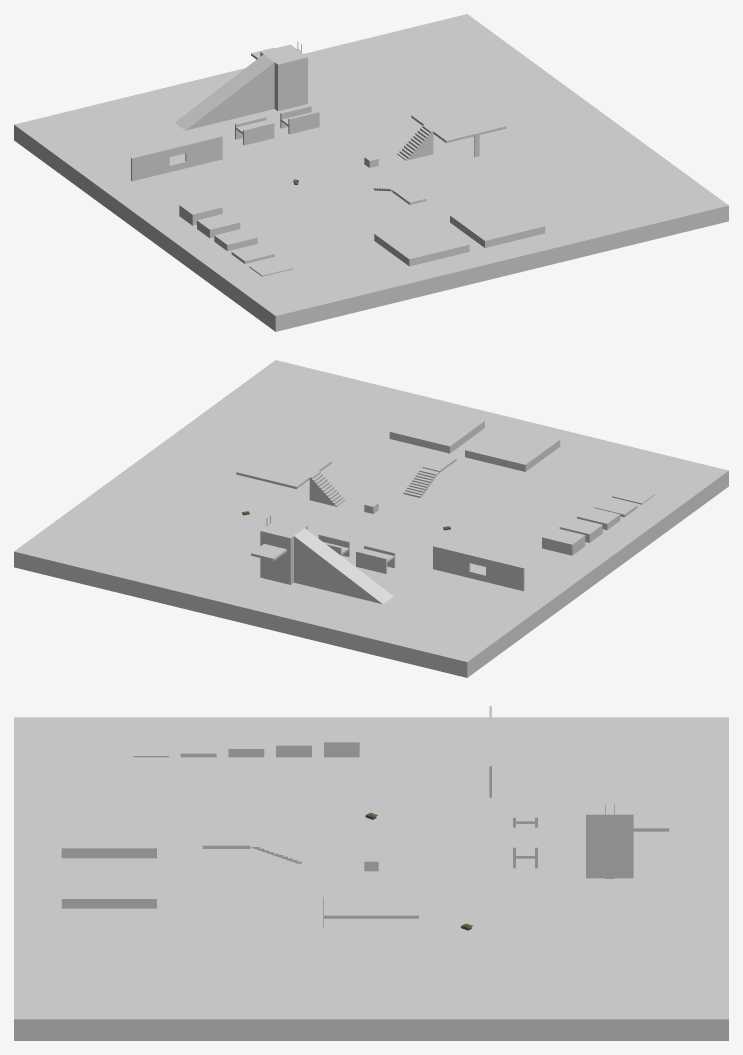
File: stage_lab.glb
3 views of the same model, one above another, from view 1: azimuth 30°, elevation 25°; view 2: azimuth 150°, elevation 25°; view 3: azimuth 270°, elevation 25° (orthographic). The views are drawn at different scales.
Visible parts, largest first — view 1: concrete_ground, concrete_ramp_tower, concrete_plateau_w, concrete_plateau_e, concrete_deck, concrete_tower, concrete_window_left, concrete_window_right, concrete_step_150, concrete_step_120, concrete_step_090, concrete_step_045; view 2: concrete_ground, concrete_ramp_tower, concrete_plateau_w, concrete_plateau_e, concrete_deck, concrete_tower, concrete_window_left, concrete_window_right, concrete_step_150, concrete_step_120, concrete_step_090, concrete_stair1 (+1 smaller); view 3: concrete_ground, concrete_plateau_e, concrete_plateau_w, concrete_deck, concrete_tower, concrete_step_150, concrete_step_120, concrete_step_090, concrete_step_045, concrete_step_025, concrete_stair1, concrete_stair_top (+2 smaller).
Boxes of the visible parts, box(x1,y1,x2,y2) form: concrete_ground: box(14, 14, 728, 331); concrete_ramp_tower: box(174, 54, 274, 130); concrete_plateau_w: box(374, 219, 469, 266); concrete_plateau_e: box(450, 200, 545, 247); concrete_deck: box(411, 100, 506, 143); concrete_tower: box(260, 44, 307, 110); concrete_window_left: box(131, 148, 169, 181); concrete_window_right: box(185, 135, 222, 167); concrete_step_150: box(179, 198, 222, 225); concrete_step_120: box(197, 213, 240, 238); concrete_step_090: box(214, 228, 257, 251); concrete_step_045: box(231, 244, 274, 263); concrete_ground: box(14, 360, 728, 677); concrete_ramp_tower: box(294, 528, 393, 604); concrete_plateau_w: box(465, 424, 560, 471); concrete_plateau_e: box(389, 406, 484, 453); concrete_deck: box(236, 446, 331, 489); concrete_tower: box(260, 518, 307, 584); concrete_window_left: box(486, 558, 524, 591); concrete_window_right: box(433, 545, 470, 577); concrete_step_150: box(542, 528, 585, 555); concrete_step_120: box(559, 517, 602, 542); concrete_step_090: box(577, 507, 620, 529); concrete_stair1: box(403, 468, 438, 497); concrete_ground: box(14, 717, 728, 1040); concrete_plateau_e: box(61, 858, 156, 908); concrete_plateau_w: box(61, 808, 156, 858); concrete_deck: box(324, 875, 418, 918); concrete_tower: box(586, 794, 633, 878); concrete_step_150: box(324, 722, 359, 757); concrete_step_120: box(276, 725, 311, 757); concrete_step_090: box(228, 728, 264, 757); concrete_step_045: box(180, 733, 216, 757); concrete_step_025: box(133, 735, 168, 757); concrete_stair1: box(250, 836, 301, 863); concrete_stair_top: box(202, 834, 250, 848).
Size of the model in its own units: 60 by 8.9 by 60.
Materials: 1 (1 with a texture image).
